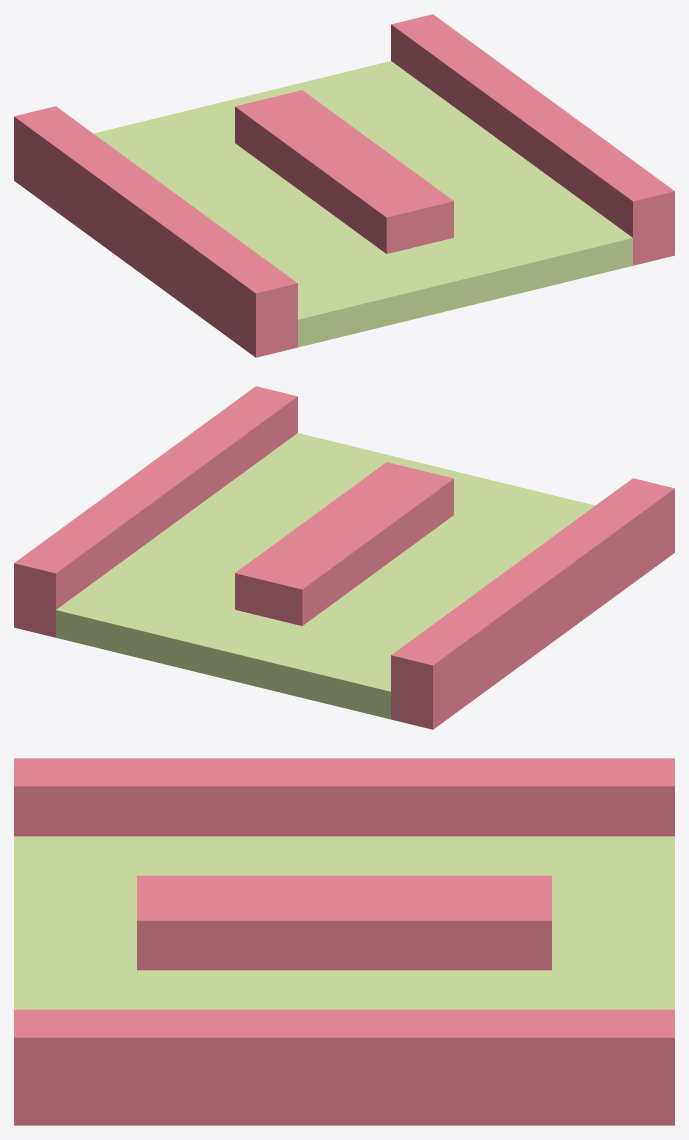
File: obstacleBlock.fbx
The picture shows the model from 3 angles, top to bottom: view 1: azimuth 30°, elevation 25°; view 2: azimuth 150°, elevation 25°; view 3: azimuth 270°, elevation 25°; orthographic projection. The views are drawn at different scales.
Parts seen in each view (by area): view 1: obstacleBlock; view 2: obstacleBlock; view 3: obstacleBlock.
Boxes of the visible parts, left/top/right/bottom form: obstacleBlock: left=14, top=14, right=674, bottom=357; obstacleBlock: left=14, top=386, right=674, bottom=729; obstacleBlock: left=14, top=758, right=674, bottom=1125.
Bounding box in the file's own units: 99.99 × 14.67 × 99.99.
